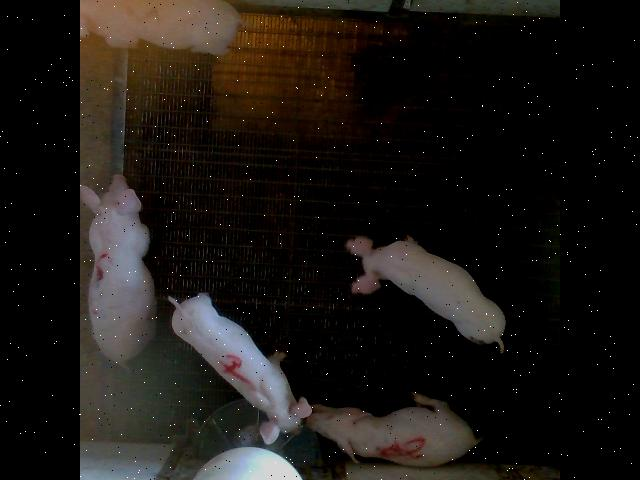pig-2: (81, 0, 242, 54)
pig-3: (81, 174, 155, 364)
pig-4: (169, 292, 311, 440)
pig-5: (306, 391, 482, 466)
